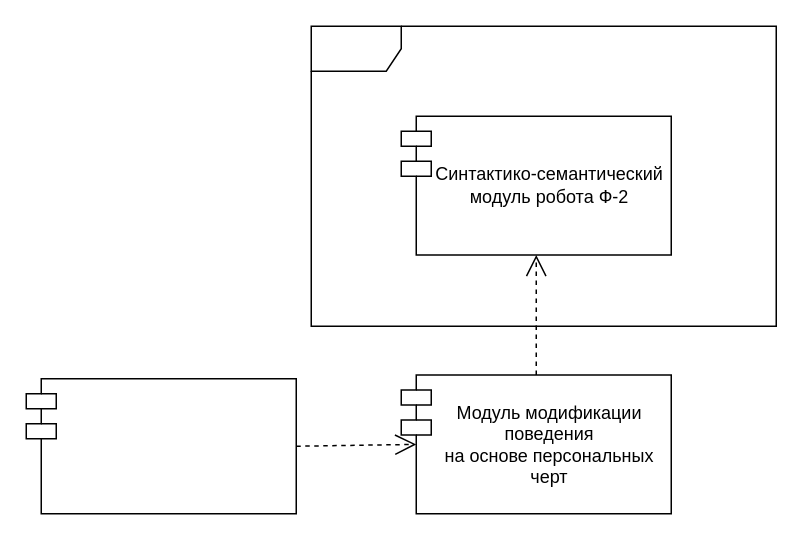
This 803x540 diagram has some shape labels left out. The centre of each missing label's shape, as x and y in pixels:
Модуль графического интерфейса пользователя: point (160, 445)
Робот Ф-2: point (543, 175)
